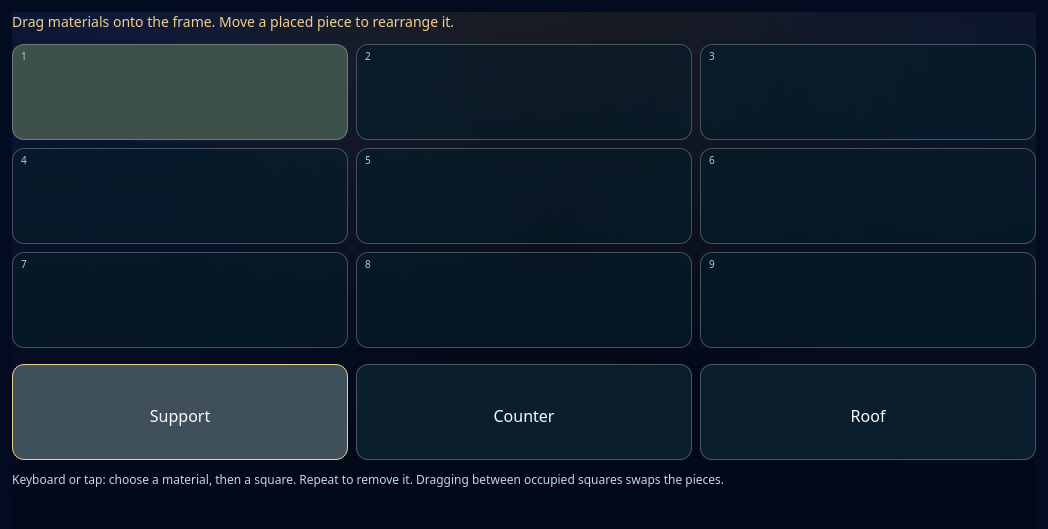
places dragged materials, swaps occupied cells and cancels outside drops
Press the mouse on the button "Roof" at (868, 412), box [700,364,1036,460]
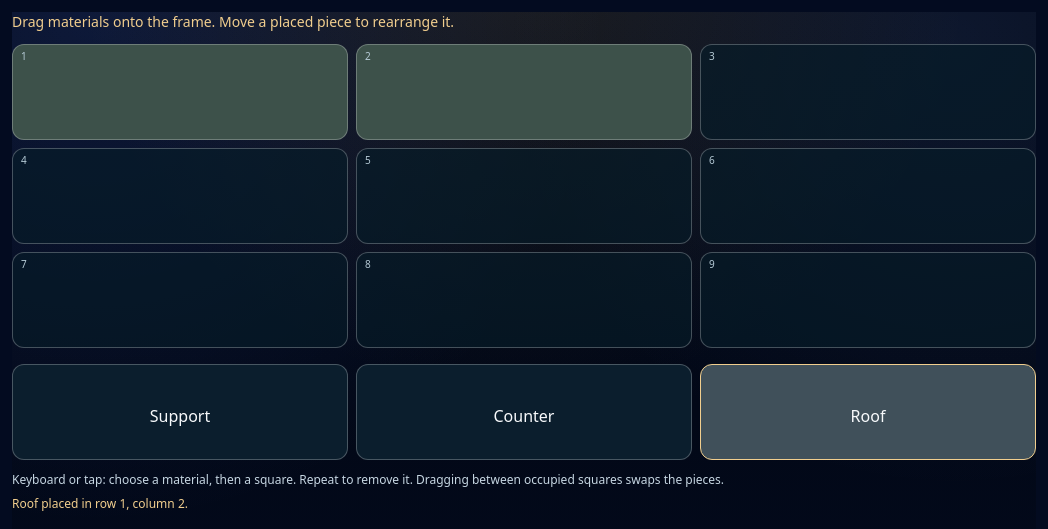
Expected: the button named "Row 1, column 2: roof" is shown
Press the mouse on the button named "Row 1, column 2: roof" at (368, 56), box [356,44,692,140]
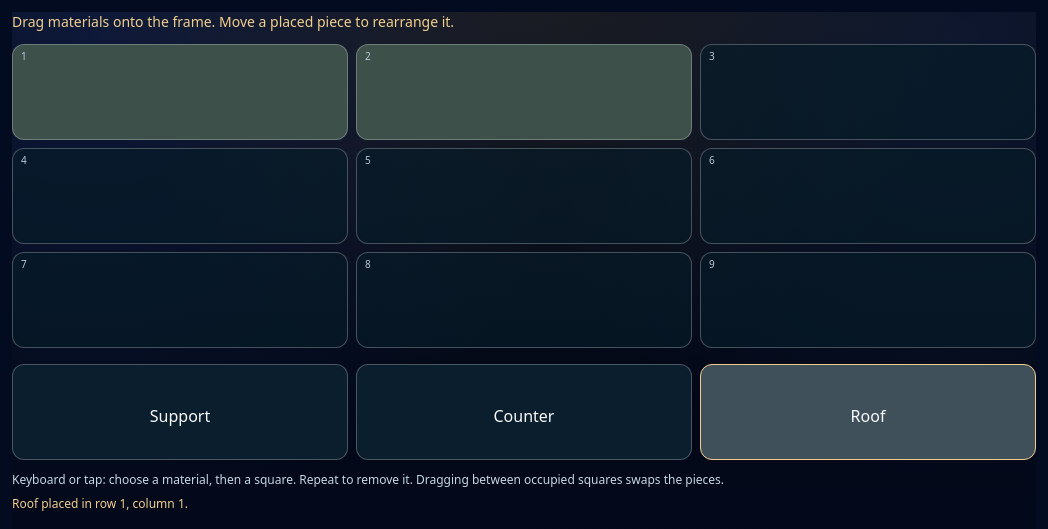
Press the mouse on the button named "Row 1, column 1: roof" at (24, 56), box [12,44,348,140]
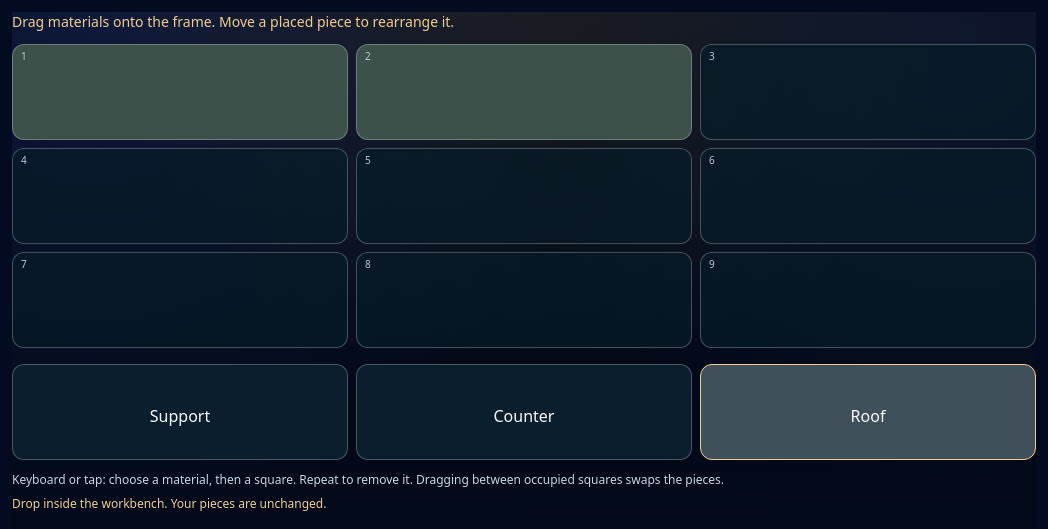
Expected: the text "Drop inside the workbench. Your pieces are unchanged." is shown, [12,495,326,512]
